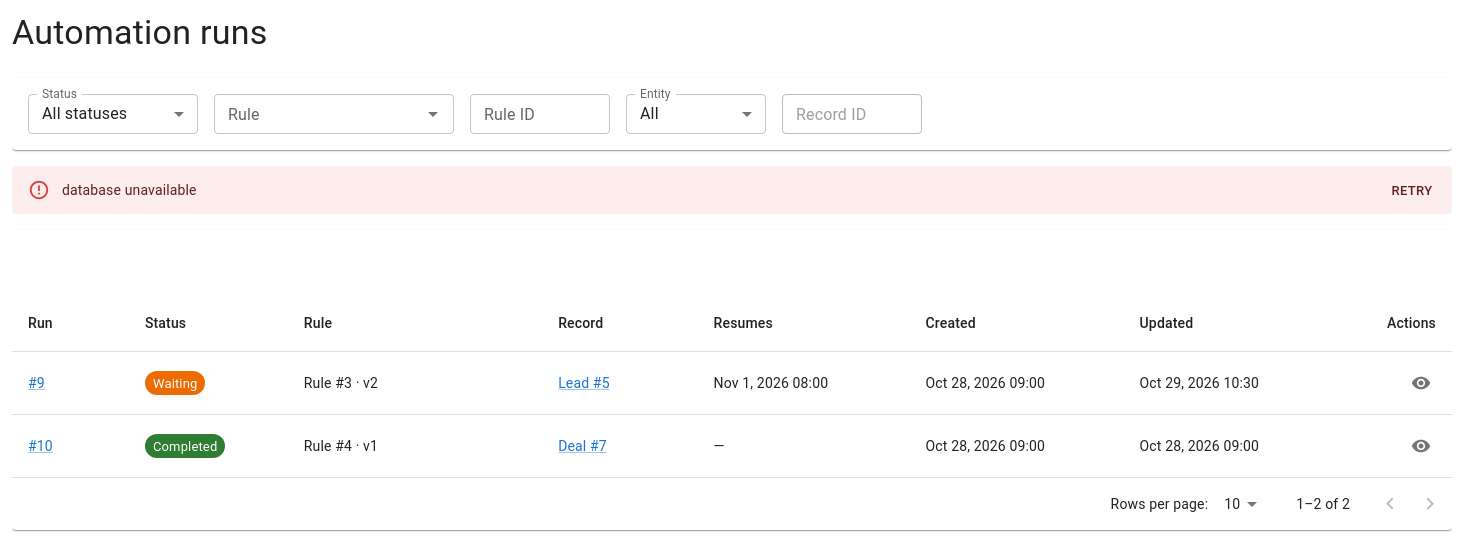
Test: AutomationRunList › keeps the loaded rows and shows the alert when a refetch fails
The width and height of the screenshot is (1464, 549).
Expected: the message shows "database unavailable", [62,182,197,198]
Expected: the link named "Run #9" is shown, [28,375,45,391]
Click the button "Retry".
click(1412, 191)  # box [1380,176,1444,207]
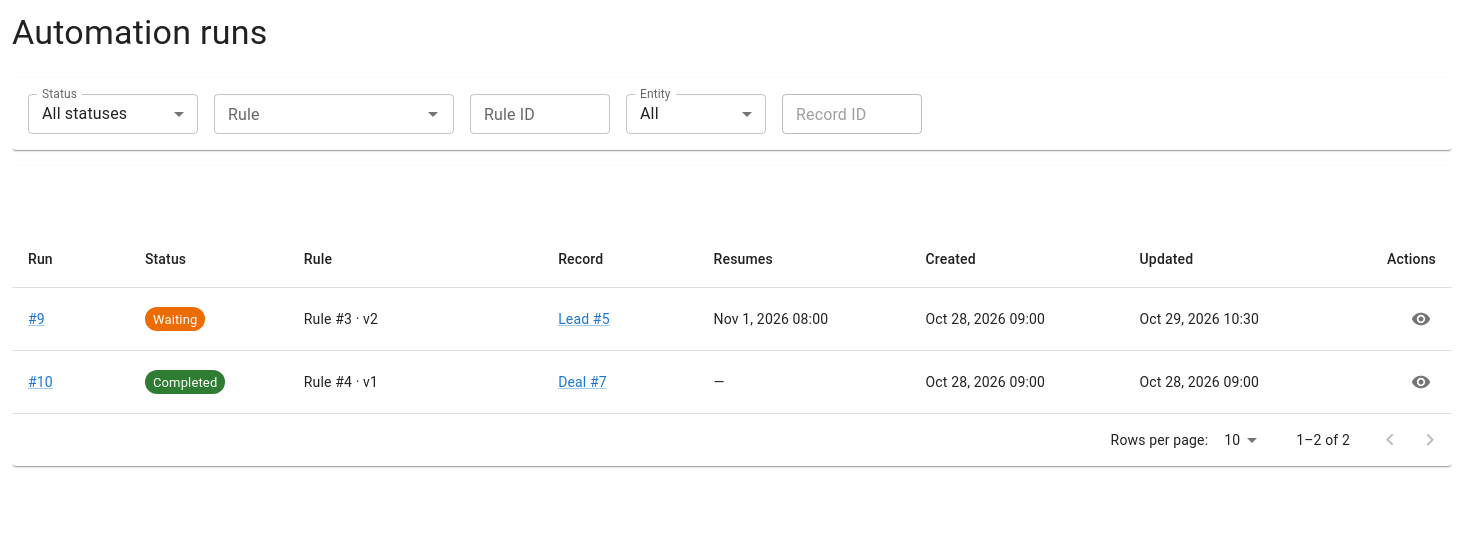
Expected: the link named "Run #9" is shown, [28,311,45,327]
Now the message "database unavailable Retry" is gone
